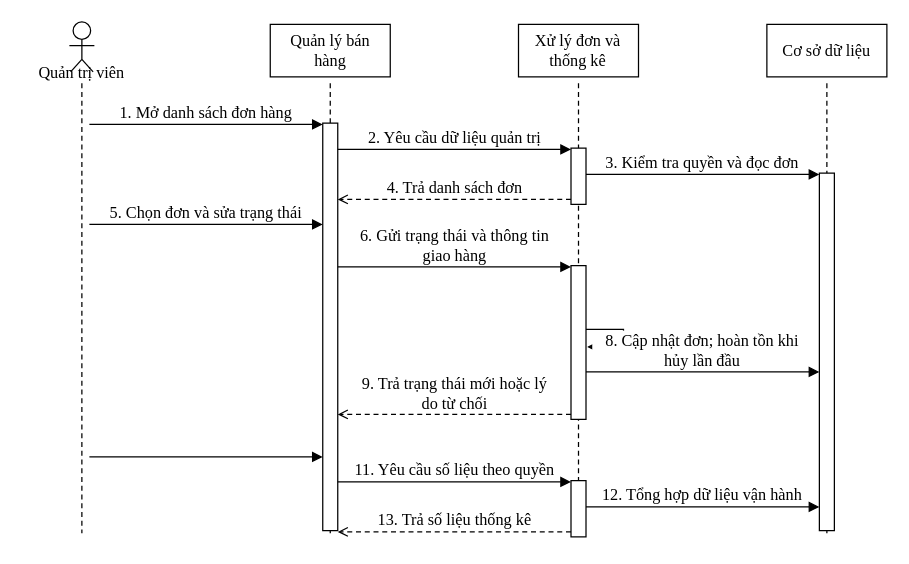
The diagram is 909 pixels wide and 564 high, and some of its shapes have lost their labels. The shapes that lost their labels are listed below. From the top down, each one's centre as x and y in pixels, then its label:
(x=673, y=298): 7. Kiểm tra bước chuyển và thanh toán QR
(x=205, y=435): 10. Mở thống kê kinh doanh và AI
